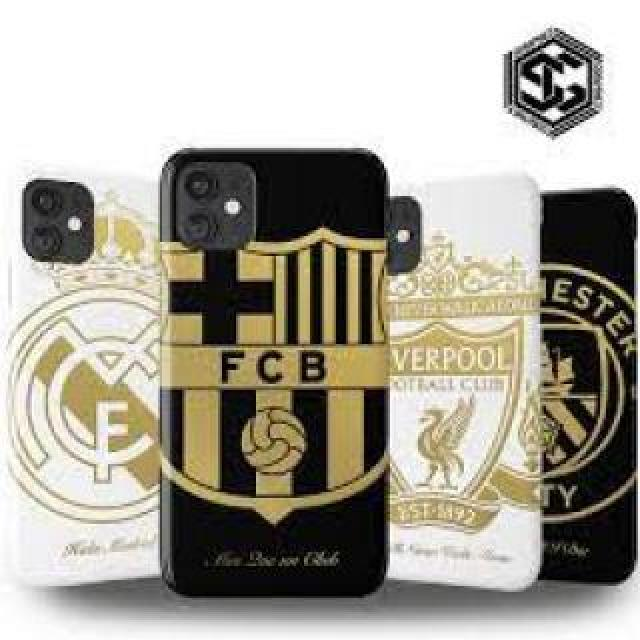smart phone: (165, 150, 397, 597), (378, 148, 534, 594), (7, 172, 162, 595), (542, 155, 635, 585)
